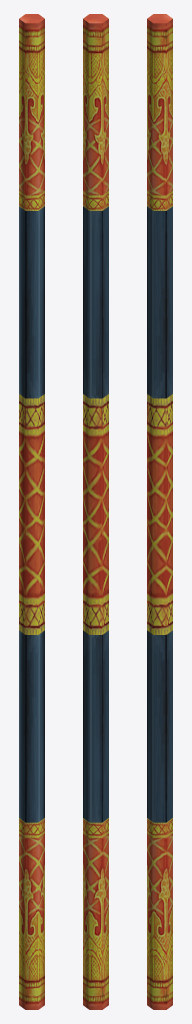
The model's file is DZSG.FBX.
3 views of the same model, side by side, from view 1: azimuth 90°, elevation 25°; view 2: azimuth 150°, elevation 25°; view 3: azimuth 270°, elevation 25° (orthographic).
Visible parts, largest first — view 1: RH_wand_0032; view 2: RH_wand_0032; view 3: RH_wand_0032.
Boxes of the visible parts, <box> form: RH_wand_0032: <box>19,14,44,1009</box>; RH_wand_0032: <box>83,14,108,1009</box>; RH_wand_0032: <box>147,14,172,1009</box>.
Size of the model in its own units: 4.42 by 215 by 5.1.
1 material, 1 textured.
